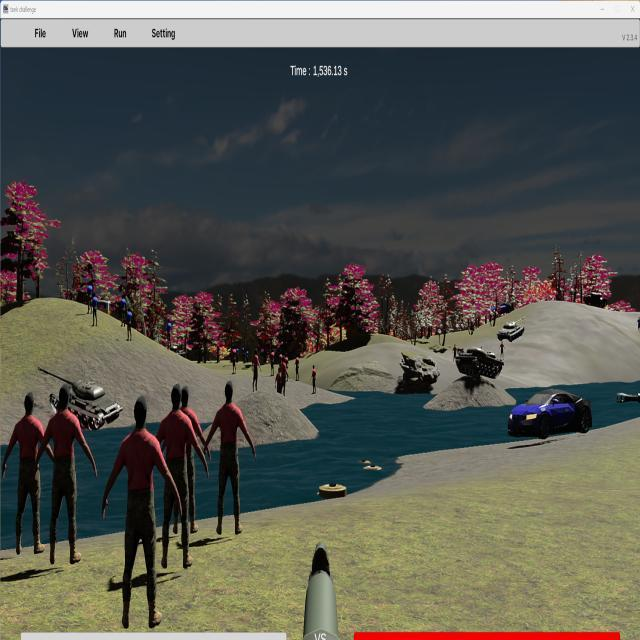Human: (102, 397, 181, 634), (32, 382, 98, 566), (149, 384, 208, 560), (1, 391, 57, 557), (205, 379, 256, 536)
Tank: (36, 365, 123, 432), (454, 345, 504, 379), (497, 315, 527, 342)
car: (508, 390, 592, 440)
